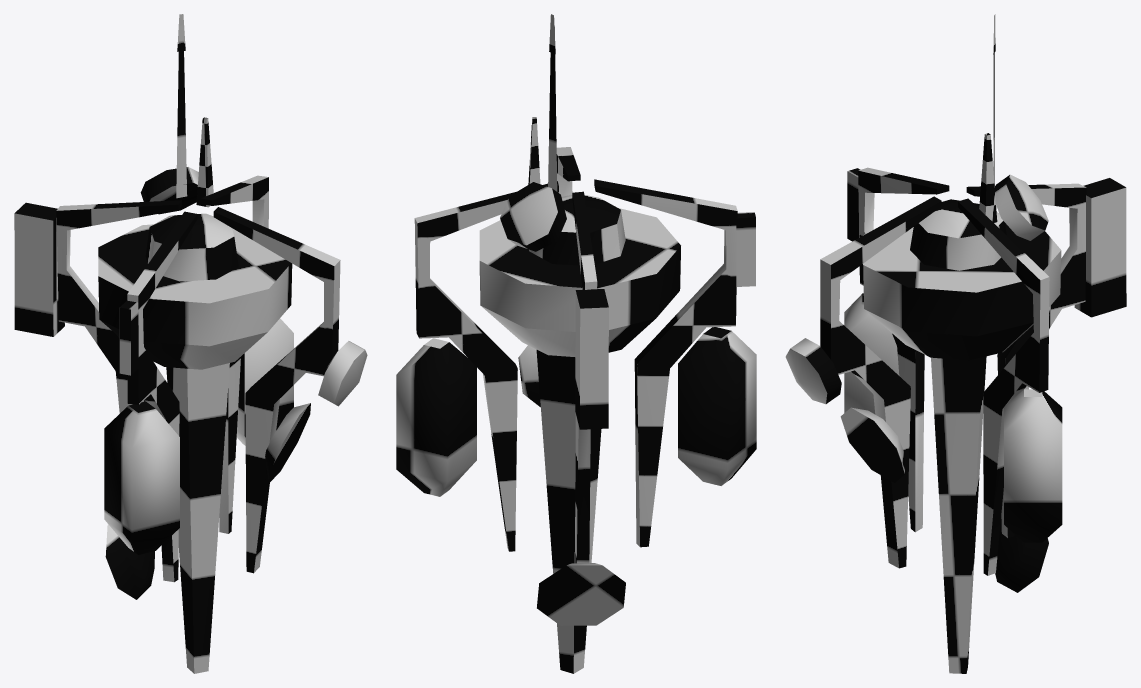
Rendered from low_relay.obj.
3 renders of one model, left to right at view 1: azimuth 30°, elevation 25°; view 2: azimuth 150°, elevation 25°; view 3: azimuth 270°, elevation 25°, orthographic. The views are drawn at different scales.
Parts seen in each view (by area): view 1: low_relay; view 2: low_relay; view 3: low_relay.
Boxes of the visible parts, x1,y1,x2,y2 form: low_relay: (14,14,367,673); low_relay: (396,14,756,673); low_relay: (785,14,1126,673).
Size of the model in its own units: 104 by 260 by 123.
Materials: 1 (1 with a texture image).
